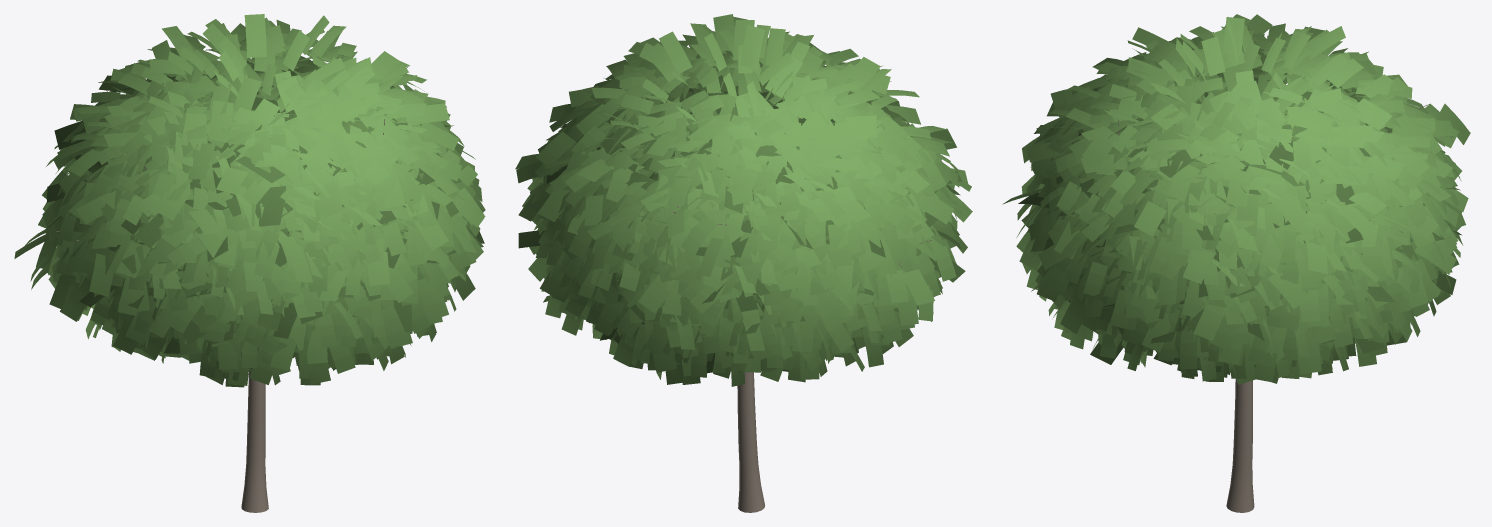
Rendered from cay_2.glb.
3 renders of one model, left to right at view 1: azimuth 30°, elevation 25°; view 2: azimuth 150°, elevation 25°; view 3: azimuth 270°, elevation 25°, orthographic. The views are drawn at different scales.
Visible parts, largest first — view 1: E:\gialaptrano\models\cay\cay_2; view 2: E:\gialaptrano\models\cay\cay_2; view 3: E:\gialaptrano\models\cay\cay_2.
Boxes of the visible parts, x1,y1,x2,y2 form: E:\gialaptrano\models\cay\cay_2: (14,14,485,512); E:\gialaptrano\models\cay\cay_2: (515,14,972,512); E:\gialaptrano\models\cay\cay_2: (1002,14,1470,512).
Bounding box in the file's own units: 8.73 × 9.56 × 8.46.
